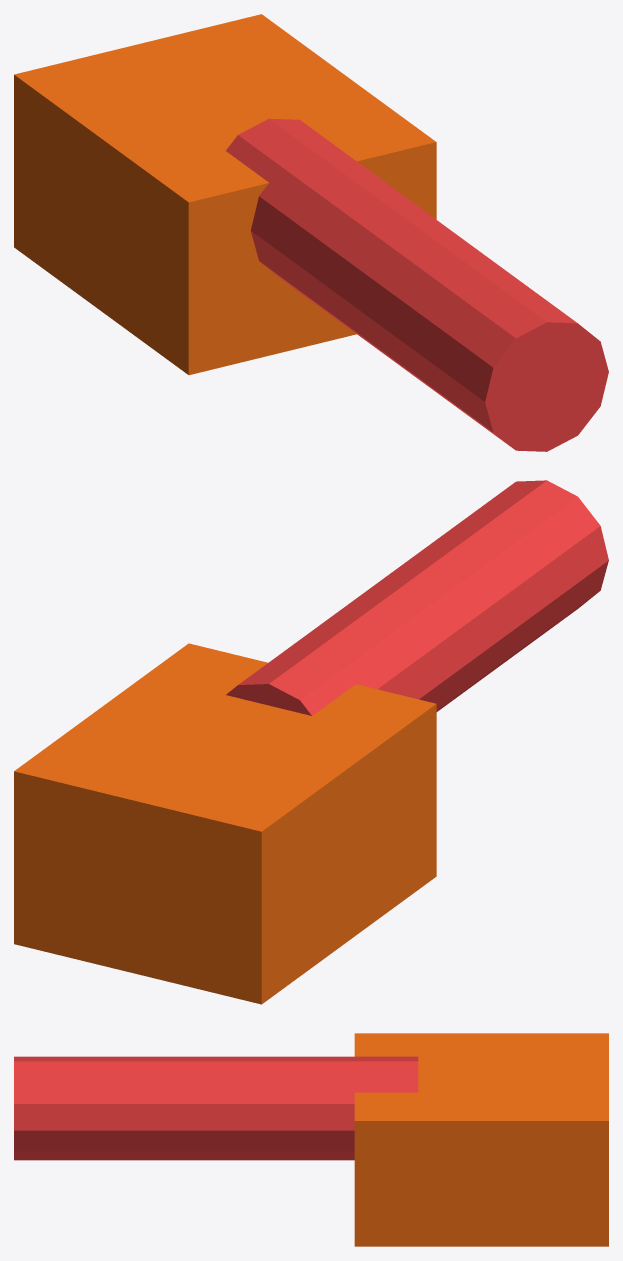
The model's file is pulse.glb.
The picture shows the model from 3 angles, top to bottom: view 1: azimuth 30°, elevation 25°; view 2: azimuth 150°, elevation 25°; view 3: azimuth 270°, elevation 25°; orthographic projection. The views are drawn at different scales.
Parts seen in each view (by area): view 1: pulse.base, pulse.barrel; view 2: pulse.base, pulse.barrel; view 3: pulse.base, pulse.barrel.
Part boxes in pixels (x1,y1,x2,y2): pulse.base: (14,14,436,375); pulse.barrel: (226,118,608,451); pulse.base: (14,643,436,1004); pulse.barrel: (226,480,608,715); pulse.base: (354,1033,608,1246); pulse.barrel: (14,1056,418,1160).
Size of the model in its own units: 0.18 by 0.135 by 0.515.
